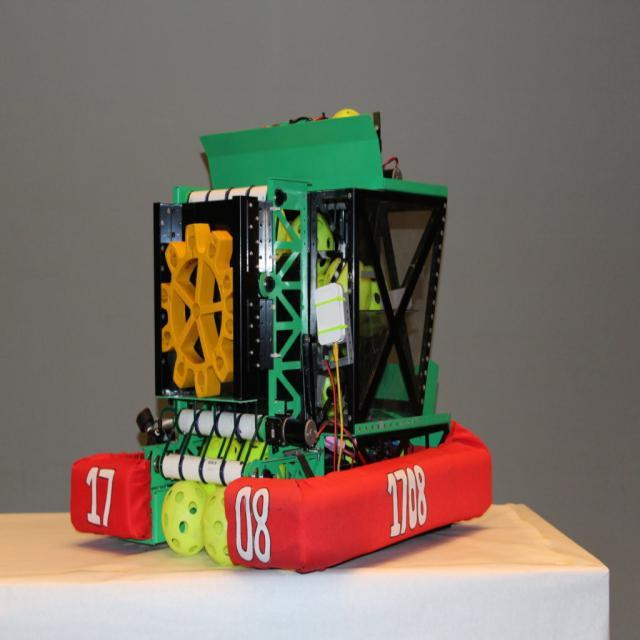robot: (62, 84, 501, 577)
